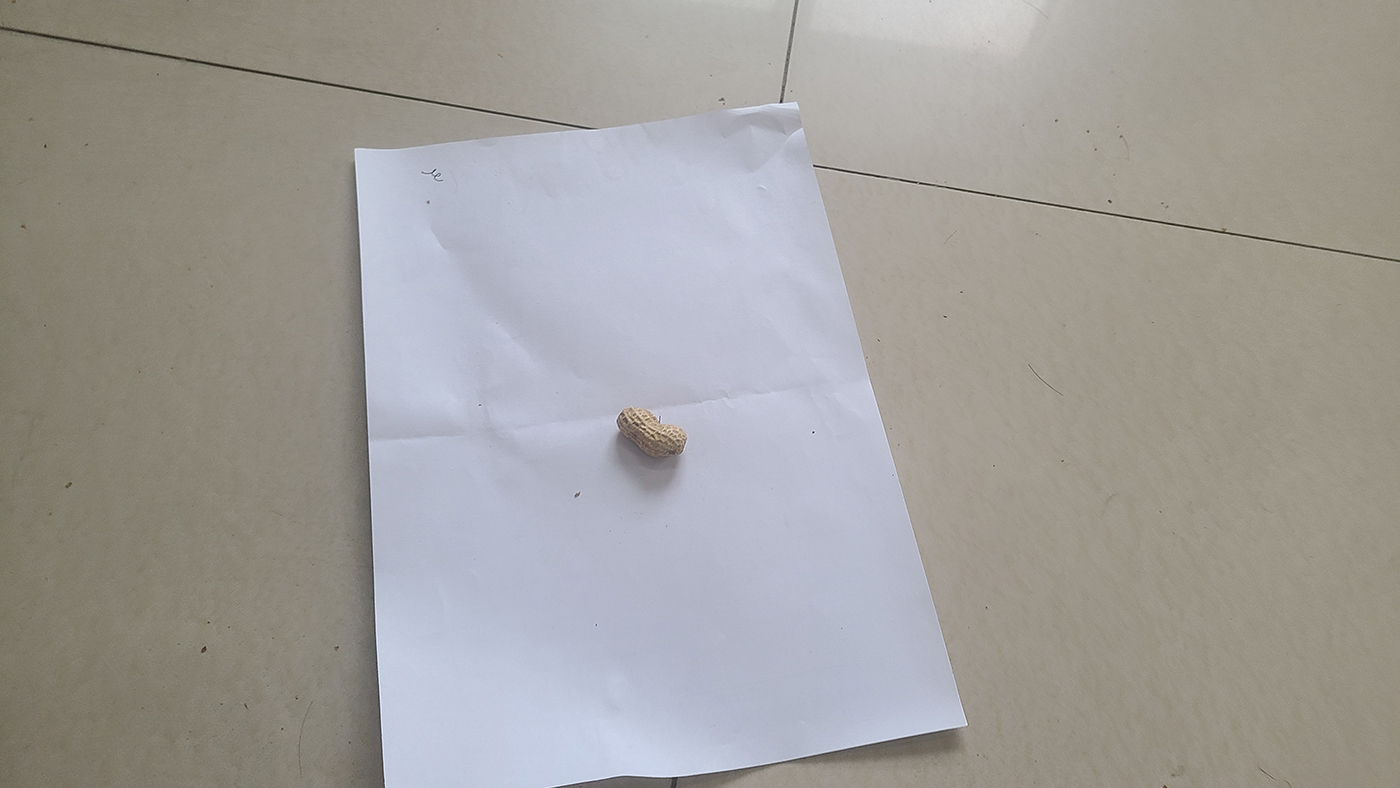h: (616, 406, 688, 459)
